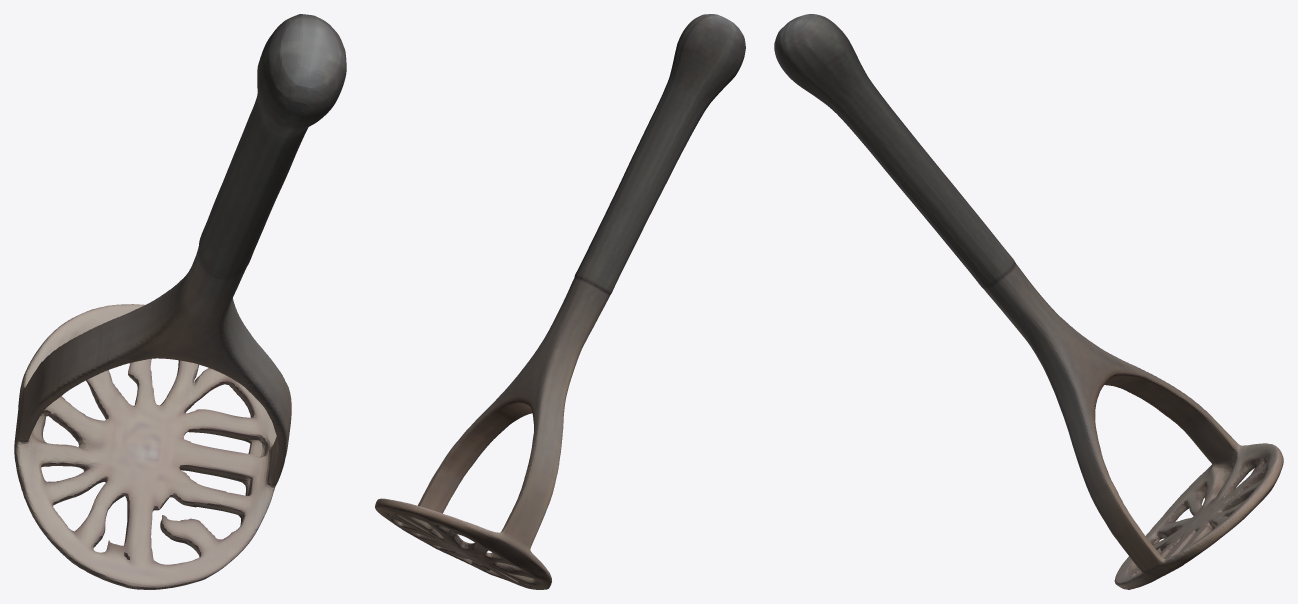
The model's file is frame_0019_source_000019_object.glb.
The picture shows the model from 3 angles, left to right: view 1: azimuth 30°, elevation 25°; view 2: azimuth 150°, elevation 25°; view 3: azimuth 270°, elevation 25°; orthographic projection. The views are drawn at different scales.
Parts seen in each view (by area): view 1: world; view 2: world; view 3: world.
Boxes of the visible parts, left/top/right/bottom form: world: left=14, top=14, right=346, bottom=589; world: left=375, top=14, right=745, bottom=589; world: left=774, top=14, right=1283, bottom=589.
Size of the model in its own units: 0.0867 by 0.2229 by 0.194.
